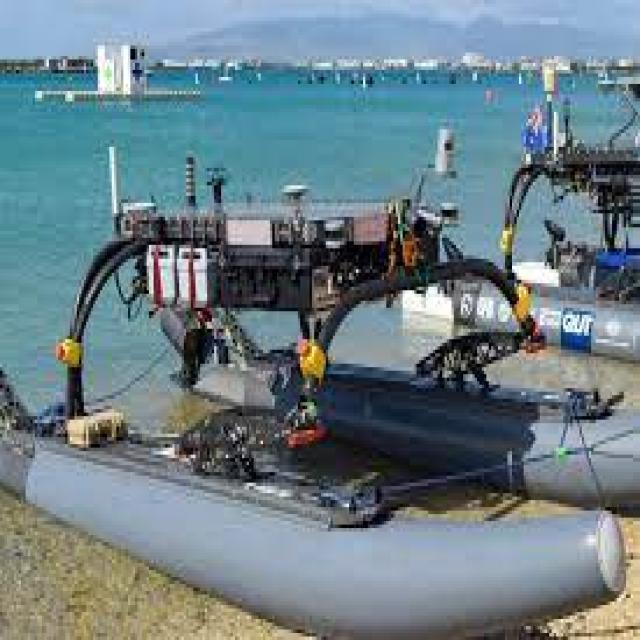Wam_V: (66, 182, 572, 620)
